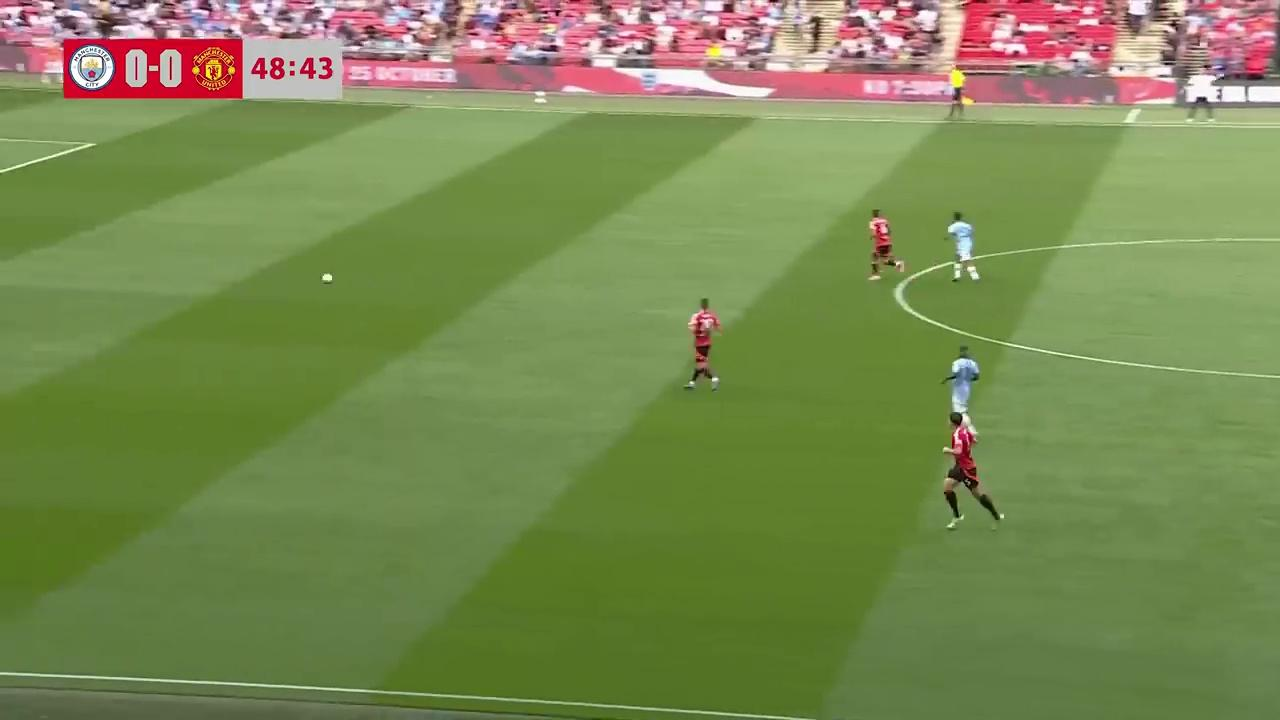ball: (319, 268, 335, 284)
player: (941, 417, 1006, 530), (685, 297, 723, 392), (939, 344, 979, 430), (867, 208, 905, 281), (945, 211, 980, 283)
referee: (944, 65, 971, 120)
